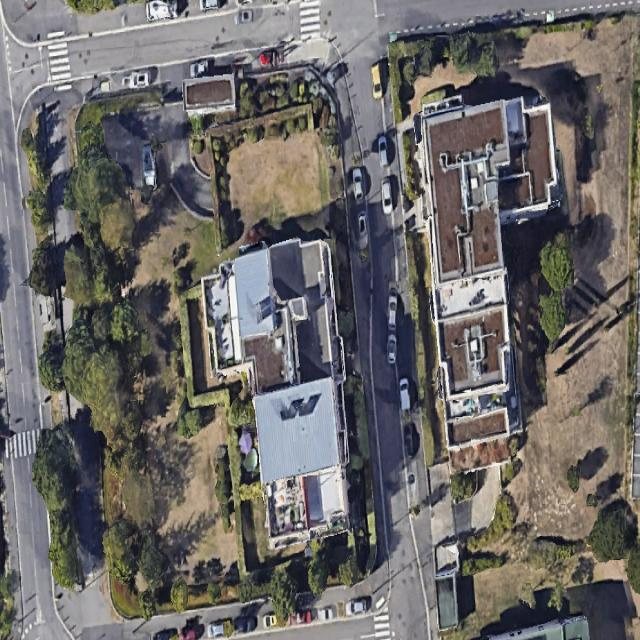immeuble: (412, 96, 590, 472), (199, 240, 355, 544)
